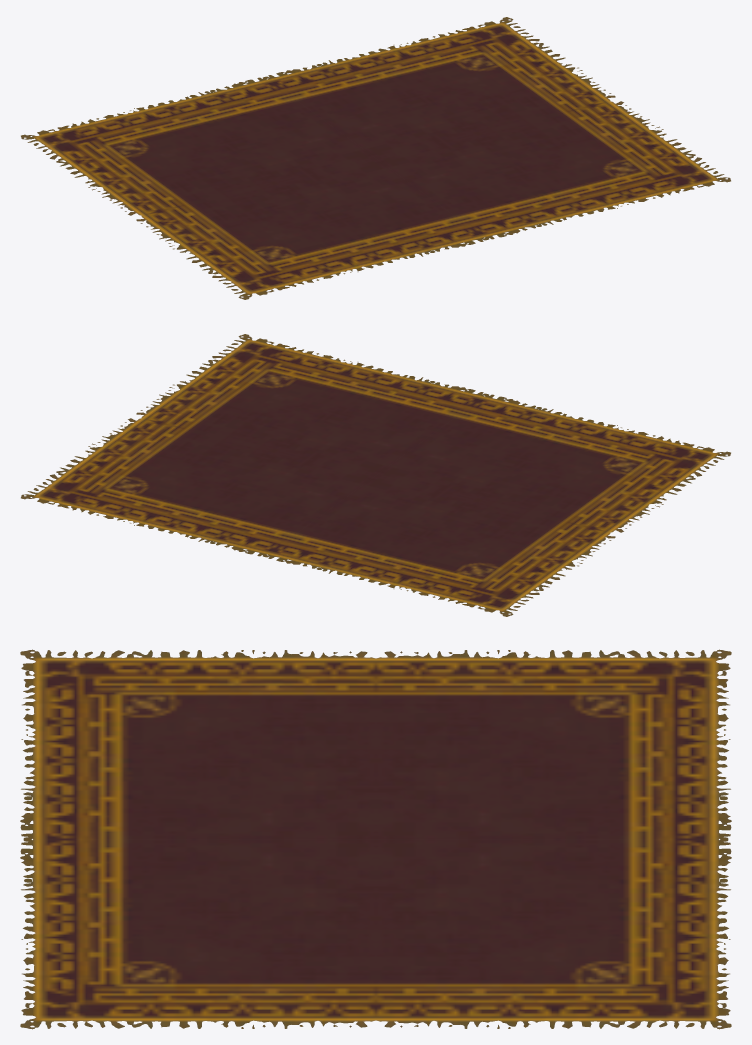
File: Carpet_3D.fbx
3 views of the same model, one above another, from view 1: azimuth 30°, elevation 25°; view 2: azimuth 150°, elevation 25°; view 3: azimuth 270°, elevation 25° (orthographic). The views are drawn at different scales.
Visible parts, largest first — view 1: pPlane97; view 2: pPlane97; view 3: pPlane97.
Boxes of the visible parts, box(x1,y1,x2,y2) form: pPlane97: box(21, 17, 730, 299); pPlane97: box(21, 334, 730, 616); pPlane97: box(20, 649, 731, 1029).
Bounding box in the file's own units: 7 × 6.22e-16 × 5.6.
